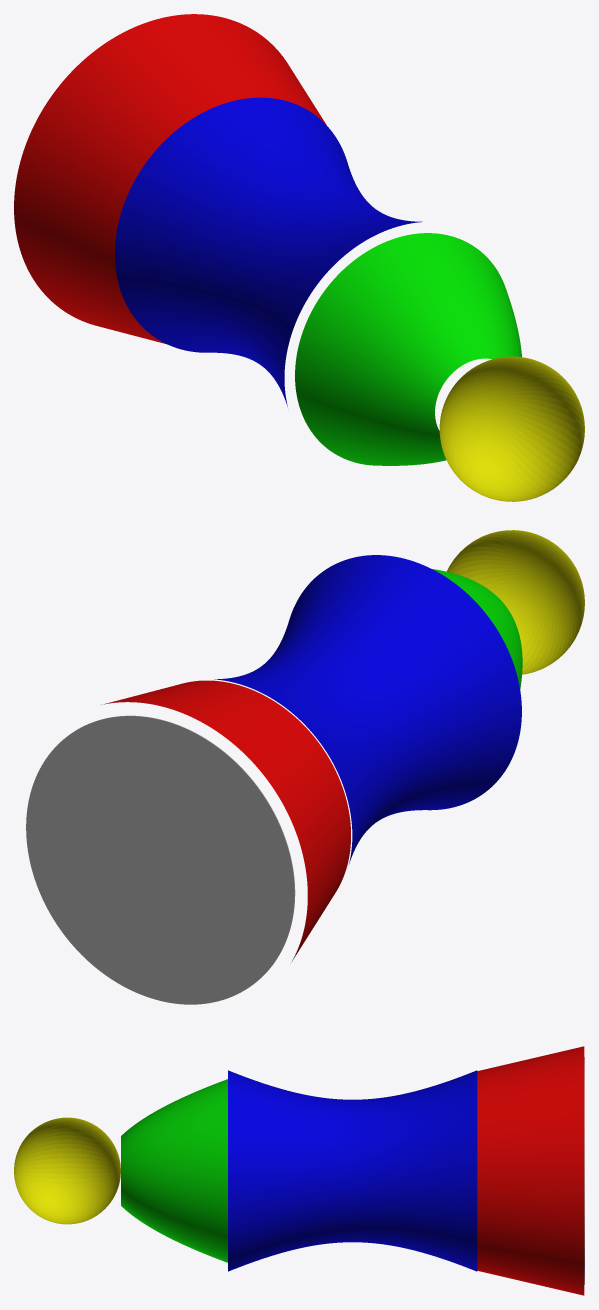
Rendered from alfil_colores_matlab_glb_correcto.glb.
3 renders of one model, top to bottom at view 1: azimuth 30°, elevation 25°; view 2: azimuth 150°, elevation 25°; view 3: azimuth 270°, elevation 25°, orthographic. The views are drawn at different scales.
Visible parts, largest first — view 1: world; view 2: world; view 3: world.
Part boxes in pixels (x1,y1,x2,y2): world: (14,14,584,501); world: (26,530,584,1004); world: (14,1046,584,1295).
Size of the model in its own units: 0.0655 by 0.0655 by 0.15.
